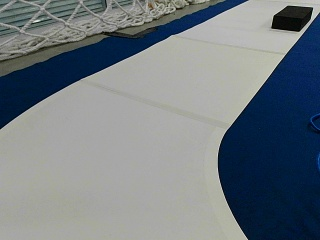block: (273, 5, 312, 30)
